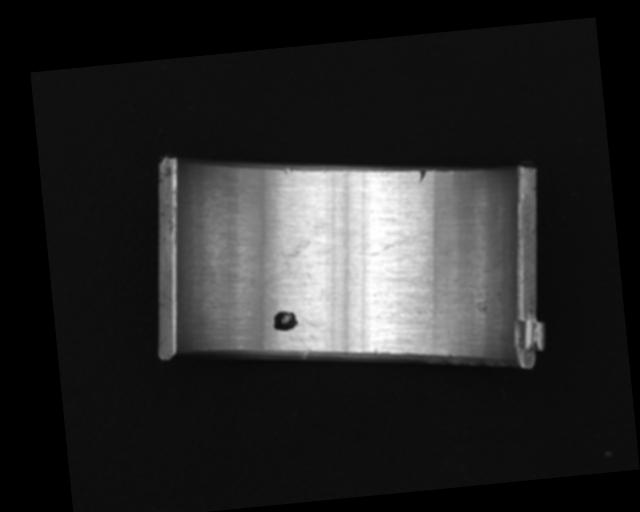blot: (259, 238, 316, 289), (271, 308, 299, 333)
bruise: (417, 169, 428, 184), (282, 166, 291, 175)
